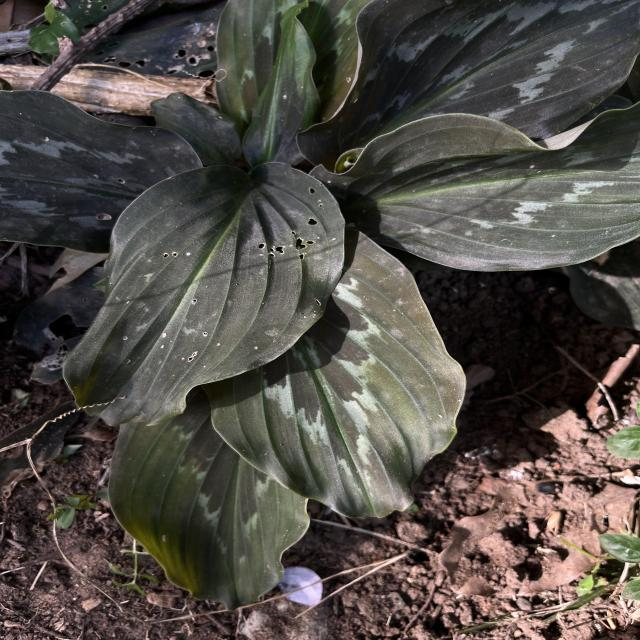Kaempferia galanga linn: (62, 153, 350, 434), (210, 234, 477, 526)
